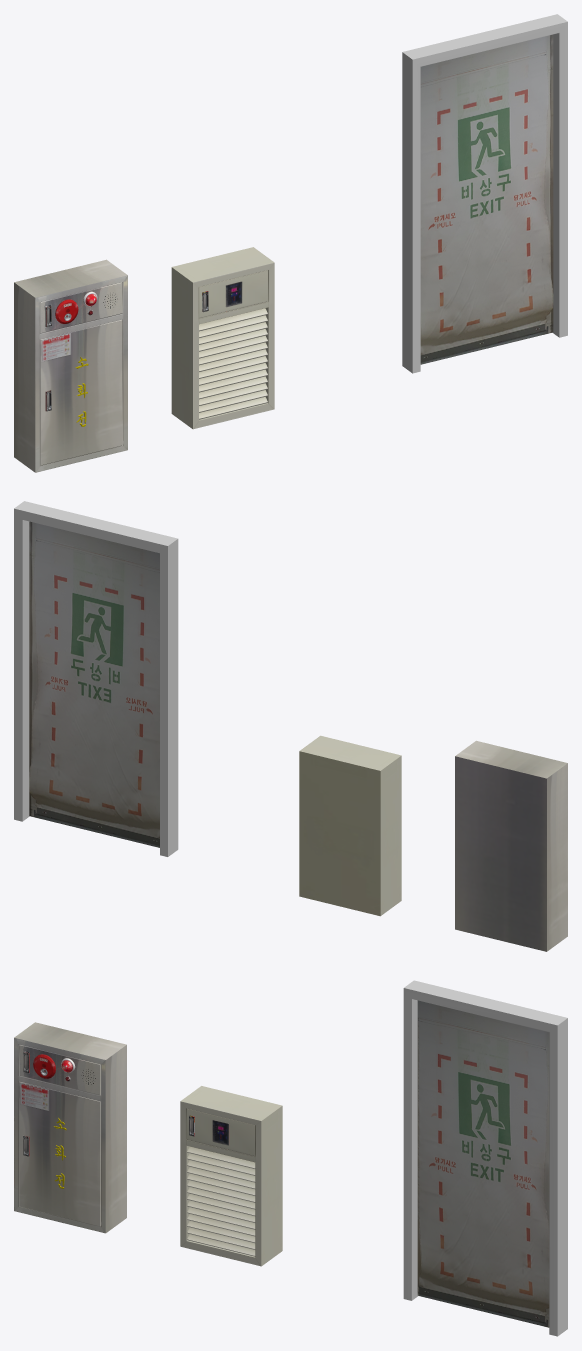
The model's file is Hanbit_obj04.fbx.
3 views of the same model, one above another, from view 1: azimuth 30°, elevation 25°; view 2: azimuth 150°, elevation 25°; view 3: azimuth 330°, elevation 25° (orthographic).
Parts seen in each view (by area): view 1: pPlane2, pCube90, pCube91; view 2: pPlane2, pCube90, pCube91; view 3: pPlane2, pCube90, pCube91.
Boxes of the visible parts, box(x1,y1,x2,y2) form: pPlane2: box(402, 14, 567, 373); pCube90: box(14, 259, 127, 472); pCube91: box(171, 247, 274, 429); pPlane2: box(14, 501, 178, 856); pCube90: box(455, 740, 567, 951); pCube91: box(299, 735, 401, 916); pPlane2: box(403, 980, 567, 1336); pCube90: box(14, 1022, 126, 1233); pCube91: box(180, 1086, 282, 1266).
Bounding box in the file's own units: 58.28 × 32.34 × 5.6.
